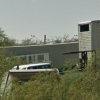Boat: (5, 59, 62, 82)
